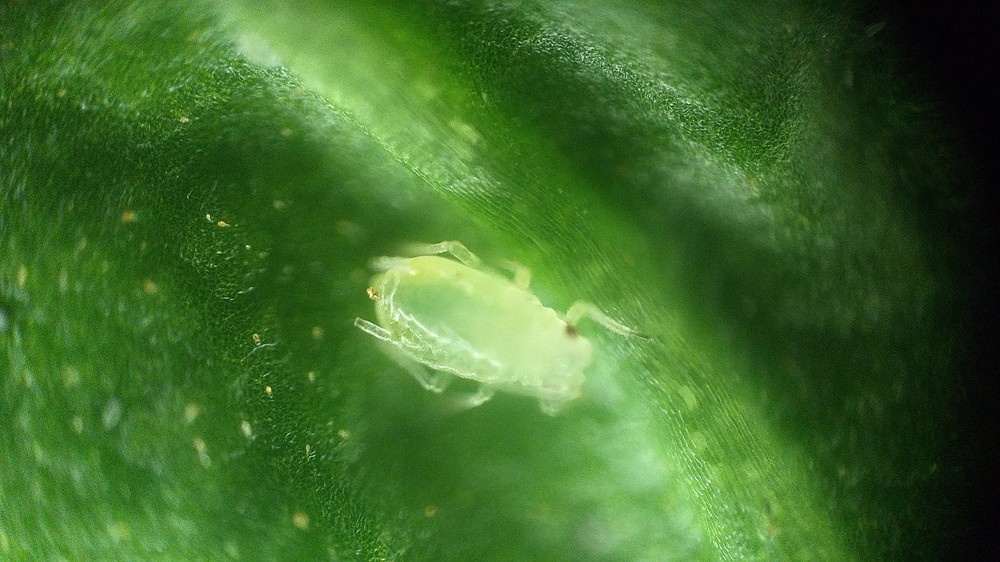Pulgon: (328, 228, 664, 439)
